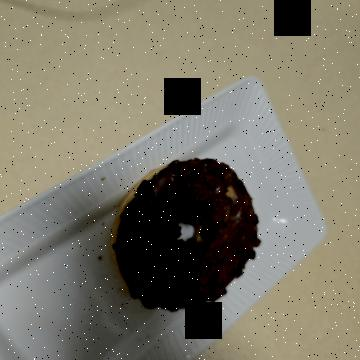doughnut: (140, 82, 318, 262)
